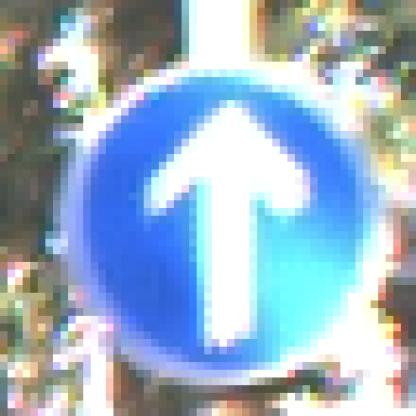AheadOnly: (47, 47, 372, 379)
